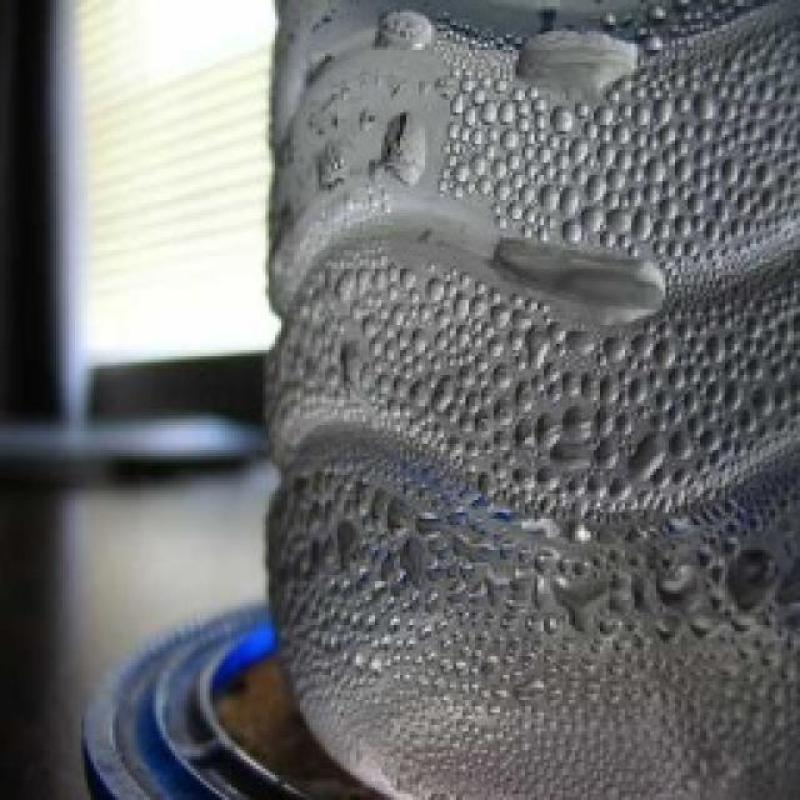botella: (265, 0, 800, 800)
